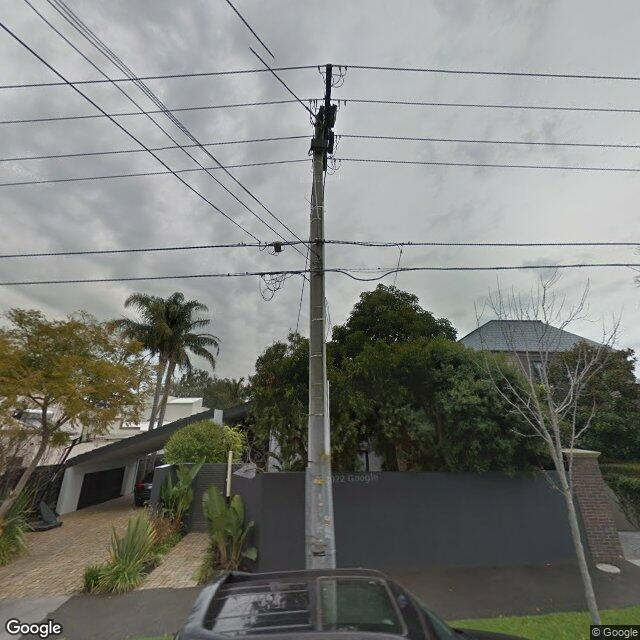crossarm: (322, 64, 332, 171)
timber-pole: (304, 115, 336, 570)
